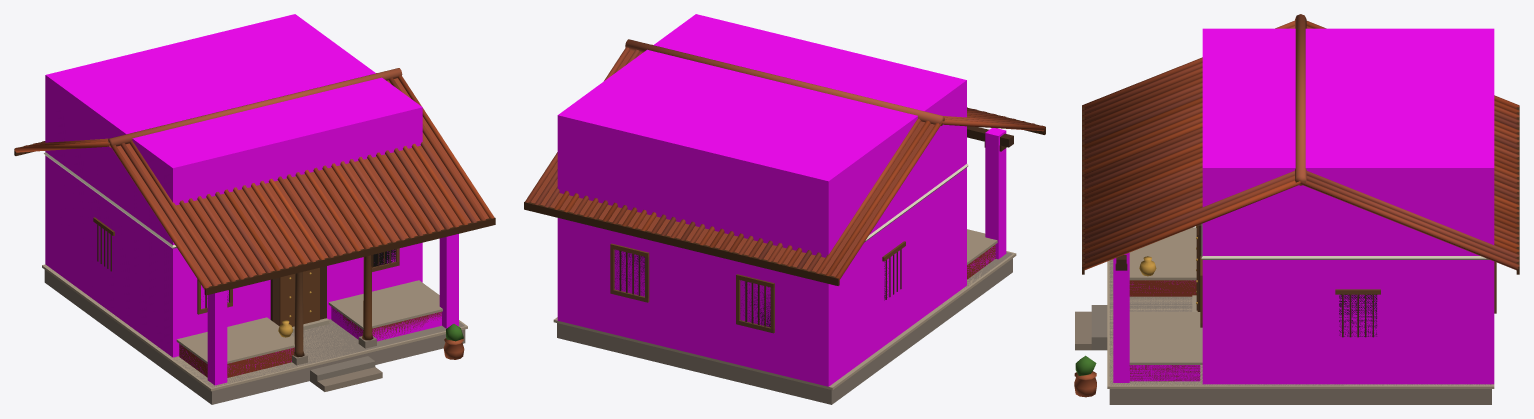
Rendered from ENV_House_Village_A.glb.
The picture shows the model from 3 angles, left to right: view 1: azimuth 30°, elevation 25°; view 2: azimuth 150°, elevation 25°; view 3: azimuth 270°, elevation 25°; orthographic projection. The views are drawn at different scales.
Visible parts, largest first — view 1: COL_Body, ENV_House_Village_A_Mesh, COL_Post_-3.2, COL_Post_3.2, WALK_Thinnai_1; view 2: COL_Body, ENV_House_Village_A_Mesh, COL_Post_-3.2; view 3: COL_Body, ENV_House_Village_A_Mesh, COL_Post_3.2, WALK_Thinnai_1.
Boxes of the visible parts, x1,y1,x2,y2 form: COL_Body: (45,14,422,357); ENV_House_Village_A_Mesh: (14,68,495,404); COL_Post_-3.2: (207,290,227,385); COL_Post_3.2: (439,234,458,328); WALK_Thinnai_1: (331,307,441,341); COL_Body: (557,14,966,386); ENV_House_Village_A_Mesh: (524,39,1045,404); COL_Post_-3.2: (985,128,1006,259); COL_Body: (1202,28,1494,384); ENV_House_Village_A_Mesh: (1074,14,1519,404); COL_Post_3.2: (1113,252,1129,382); WALK_Thinnai_1: (1129,365,1200,381).
Size of the model in its own units: 8.03 by 5.53 by 9.32.
